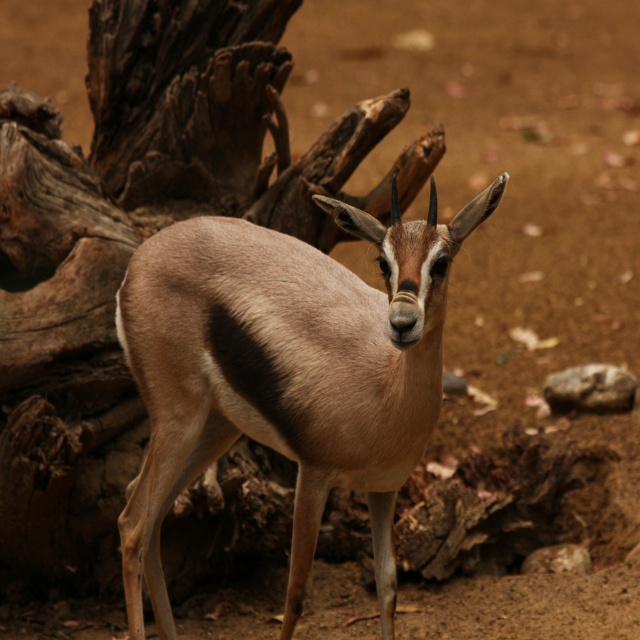Deer: (118, 167, 505, 640)
